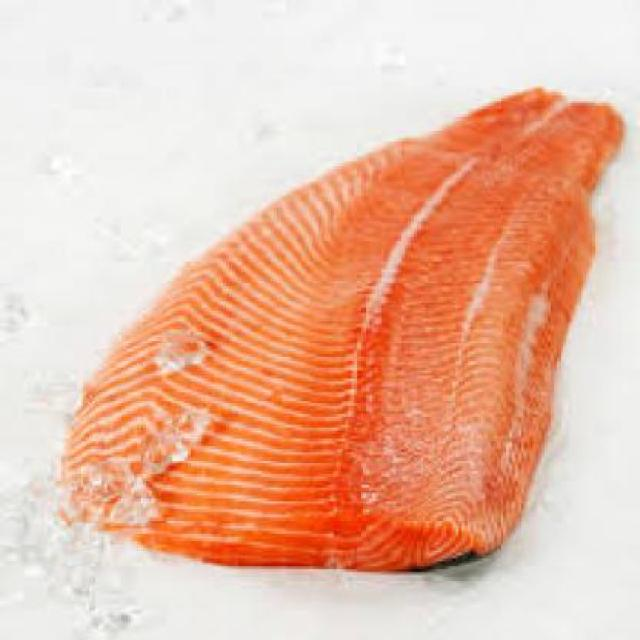salmon: (60, 57, 625, 585)
